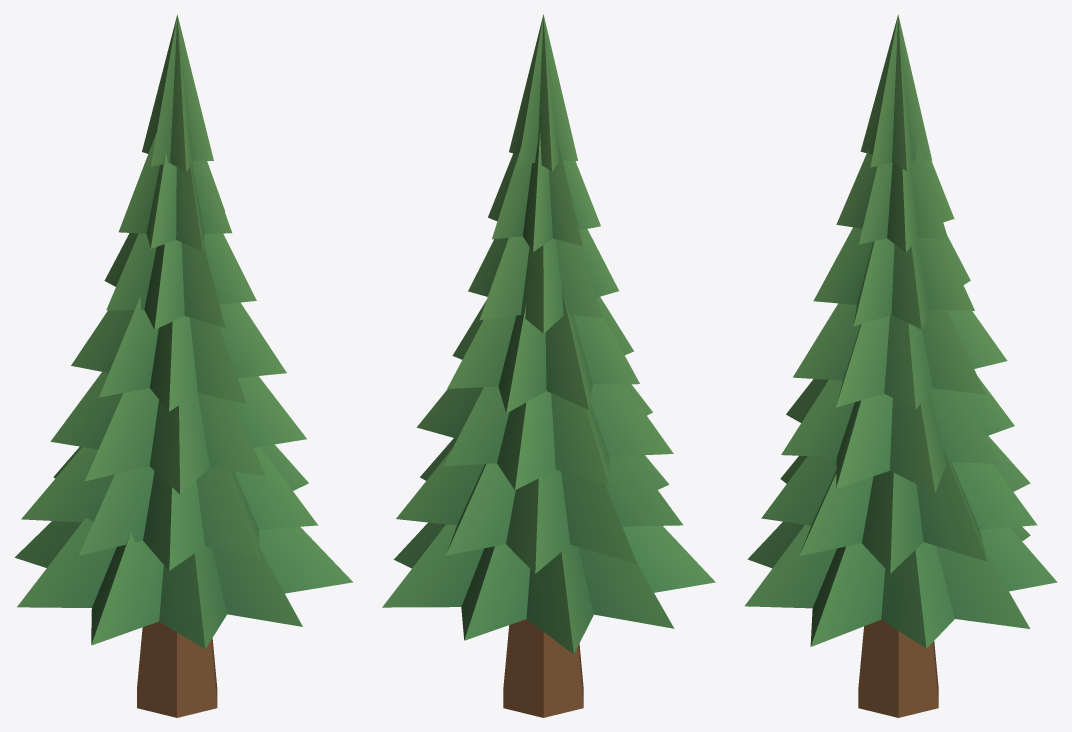
File: giant_pine_layered.fbx
The picture shows the model from 3 angles, left to right: view 1: azimuth 30°, elevation 25°; view 2: azimuth 150°, elevation 25°; view 3: azimuth 270°, elevation 25°; orthographic projection.
Visible parts, largest first — view 1: giant_pine_layered; view 2: giant_pine_layered; view 3: giant_pine_layered.
Part boxes in pixels (left/top/right/bottom): giant_pine_layered: left=15, top=14, right=352, bottom=717; giant_pine_layered: left=382, top=14, right=715, bottom=717; giant_pine_layered: left=744, top=14, right=1057, bottom=717.
Bounding box in the file's own units: 37.33 × 86.67 × 35.96.
